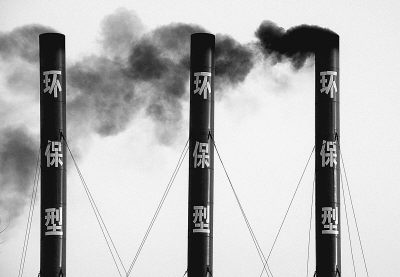dust: (124, 14, 252, 78), (260, 20, 342, 58), (7, 10, 65, 58)
